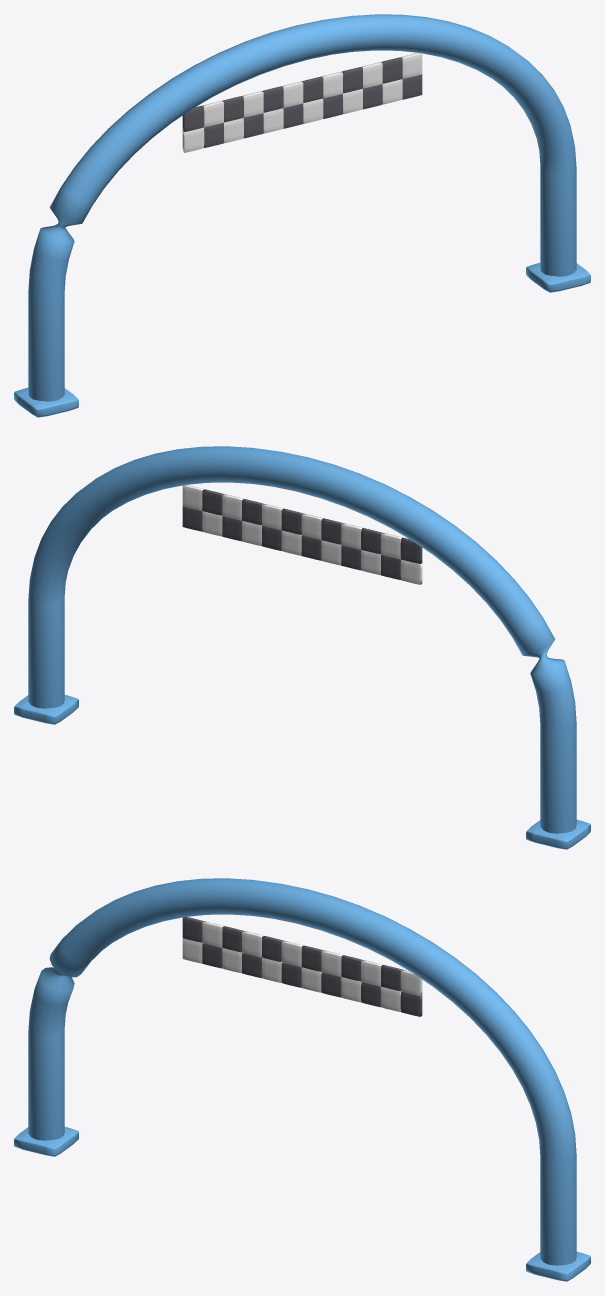
File: BobsledArch.glb
3 renders of one model, top to bottom at view 1: azimuth 30°, elevation 25°; view 2: azimuth 150°, elevation 25°; view 3: azimuth 330°, elevation 25°, orthographic.
Parts seen in each view (by area): view 1: Arch, Light, Dark; view 2: Arch, Light, Dark; view 3: Arch, Dark, Light.
Part boxes in pixels (x1,y1,x2,y2): Arch: (14, 14, 590, 417); Light: (182, 53, 422, 152); Dark: (182, 57, 422, 147); Arch: (14, 446, 590, 849); Light: (182, 485, 422, 584); Dark: (182, 489, 422, 579); Arch: (14, 878, 590, 1281); Dark: (182, 917, 422, 1016); Light: (182, 921, 422, 1011).
Bounding box in the file's own units: 55.97 × 30.56 × 4.37.
